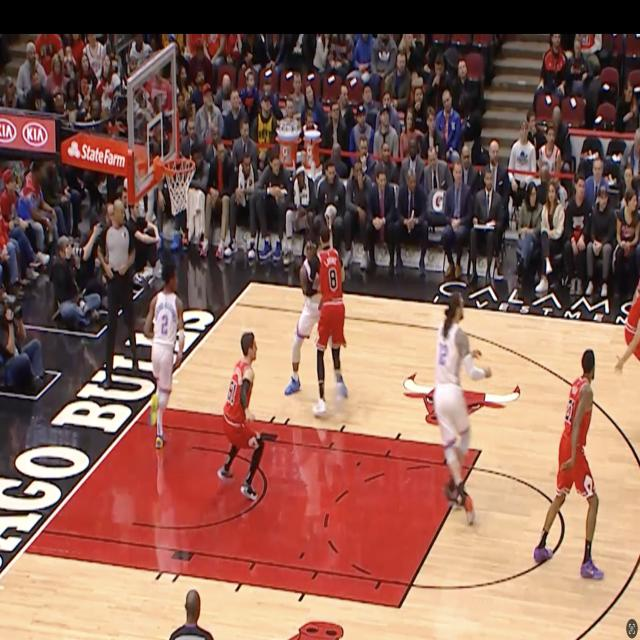foul: (271, 226, 355, 413)
